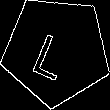L_NE: (33, 21, 80, 80)
